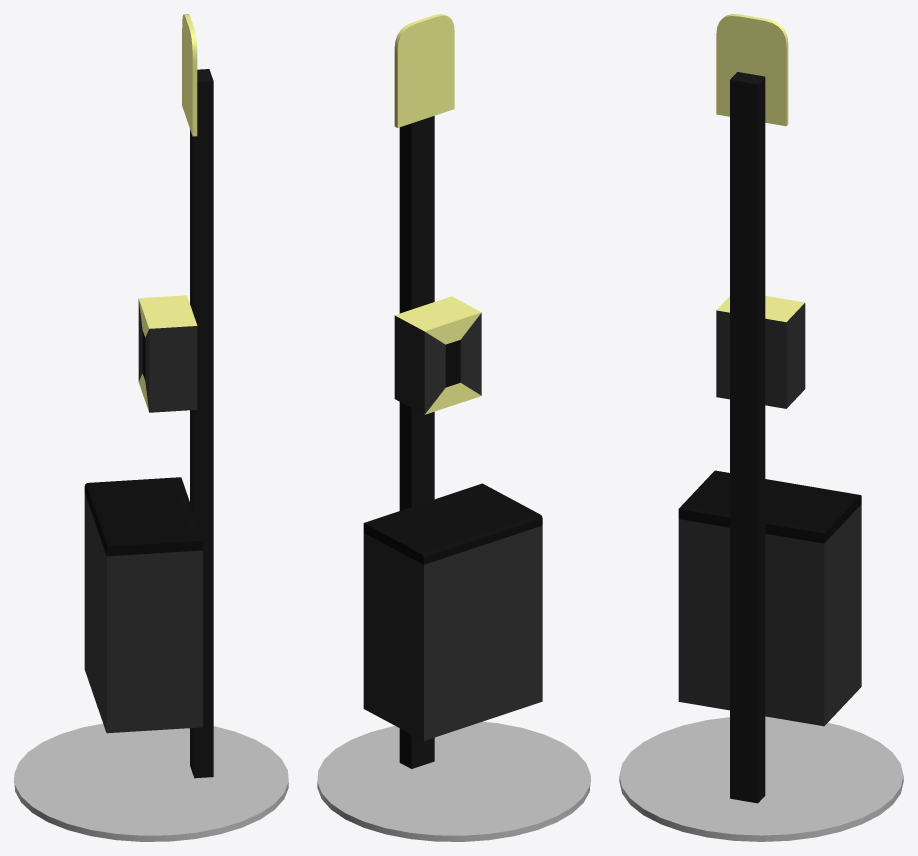
Rendered from MSH_Poste_PP.FBX.
3 views of the same model, side by side, from view 1: azimuth 30°, elevation 25°; view 2: azimuth 150°, elevation 25°; view 3: azimuth 270°, elevation 25° (orthographic). The views are drawn at different scales.
Visible parts, largest first — view 1: MSH_Poste_PP; view 2: MSH_Poste_PP; view 3: MSH_Poste_PP.
Boxes of the visible parts, x1,y1,x2,y2 form: MSH_Poste_PP: [14, 14, 288, 841]; MSH_Poste_PP: [317, 14, 590, 841]; MSH_Poste_PP: [619, 14, 903, 841].
Bounding box in the file's own units: 141 × 428 × 141.
